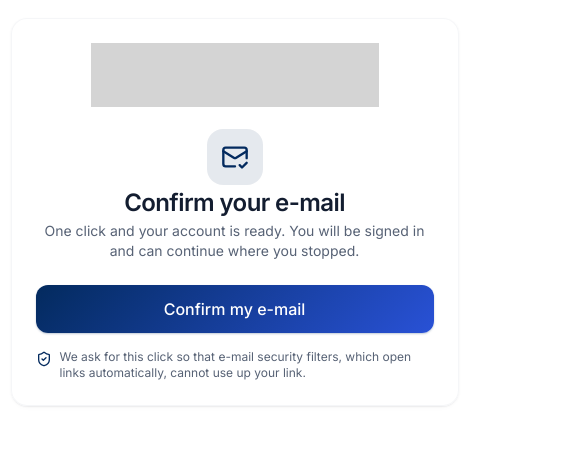
Test: confirm page (scanner-safe link) › an expired link on the confirm page offers a new e-mail
The image size is (567, 451).
Click the button "Confirm my e-mail": (234, 309) [36,285,434,333]
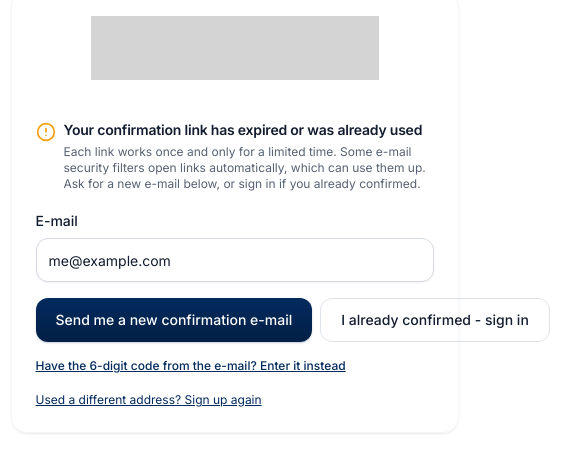
Expected: the heading "Your confirmation link has expired or was already used" is shown, [64,120,434,140]
Expected: the field labelled "E-mail" holds "me@example.com", [36,238,434,282]
